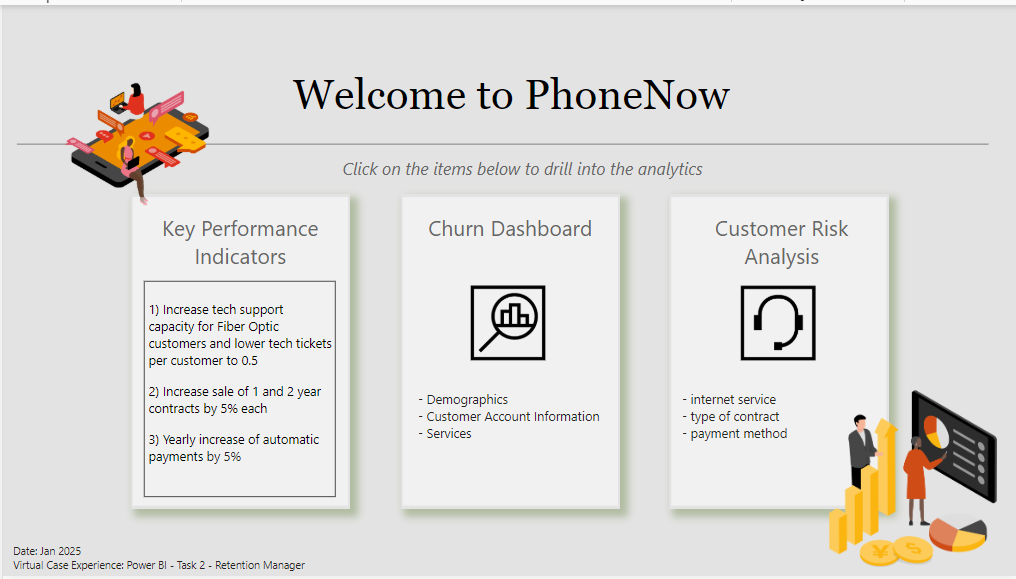

The dashboard page shown, as its layout file describes it:
{"tool":"powerbi","page":{"name":"Welcome","canvas":[1280,720],"ordinal":0},"visuals":[{"type":"basicShape","box":[500.5,238.4,276.8,396.5],"z":0},{"type":"basicShape","box":[839.4,238.4,276.8,396.5],"z":1000},{"type":"textbox","box":[0,77,1280,78.9],"z":2000},{"type":"basicShape","box":[7.9,155.9,1243.8,40.7],"z":3000},{"type":"image","box":[924.5,347.8,105,105],"z":4000},{"type":"textbox","box":[843.6,256.2,276.7,86.7],"z":5000},{"type":"image","box":[584.4,347.8,105,105],"z":6000},{"type":"textbox","box":[28.2,186.1,1251.8,51.6],"z":7000},{"type":"image","box":[0,0,362.6,328.8],"z":8000},{"type":"textbox","box":[500.9,256.2,276.7,86.7],"z":9000},{"type":"textbox","box":[517.4,479.5,255.3,140.1],"z":10000},{"type":"textbox","box":[7.9,672.2,397.7,47.4],"z":11000},{"type":"image","box":[1013.1,479.3,266.9,232.8],"z":12000},{"type":"textbox","box":[850.4,479.3,255.2,140.3],"z":13000},{"type":"basicShape","box":[160.4,238.4,276.8,396.5],"z":14000},{"type":"textbox","box":[160.7,256.2,276.7,86.7],"z":15000},{"type":"textbox","box":[178.3,347.8,241.6,271.8],"z":16000}]}

Visuals, with their boxes in screenshot pixels (x1, y1, x2, y2), scaled from the page's 1280x720 canvas onto the 1016x579 screenshot:
basicShape: bbox=[397, 192, 617, 511]
basicShape: bbox=[666, 192, 886, 511]
textbox: bbox=[0, 62, 1015, 125]
basicShape: bbox=[6, 125, 994, 158]
image: bbox=[734, 280, 817, 364]
textbox: bbox=[670, 206, 889, 276]
image: bbox=[464, 280, 547, 364]
textbox: bbox=[22, 150, 1015, 191]
image: bbox=[0, 0, 288, 264]
textbox: bbox=[398, 206, 617, 276]
textbox: bbox=[411, 386, 613, 498]
textbox: bbox=[6, 541, 322, 578]
image: bbox=[804, 385, 1015, 573]
textbox: bbox=[675, 385, 878, 498]
basicShape: bbox=[127, 192, 347, 511]
textbox: bbox=[128, 206, 347, 276]
textbox: bbox=[142, 280, 333, 498]
